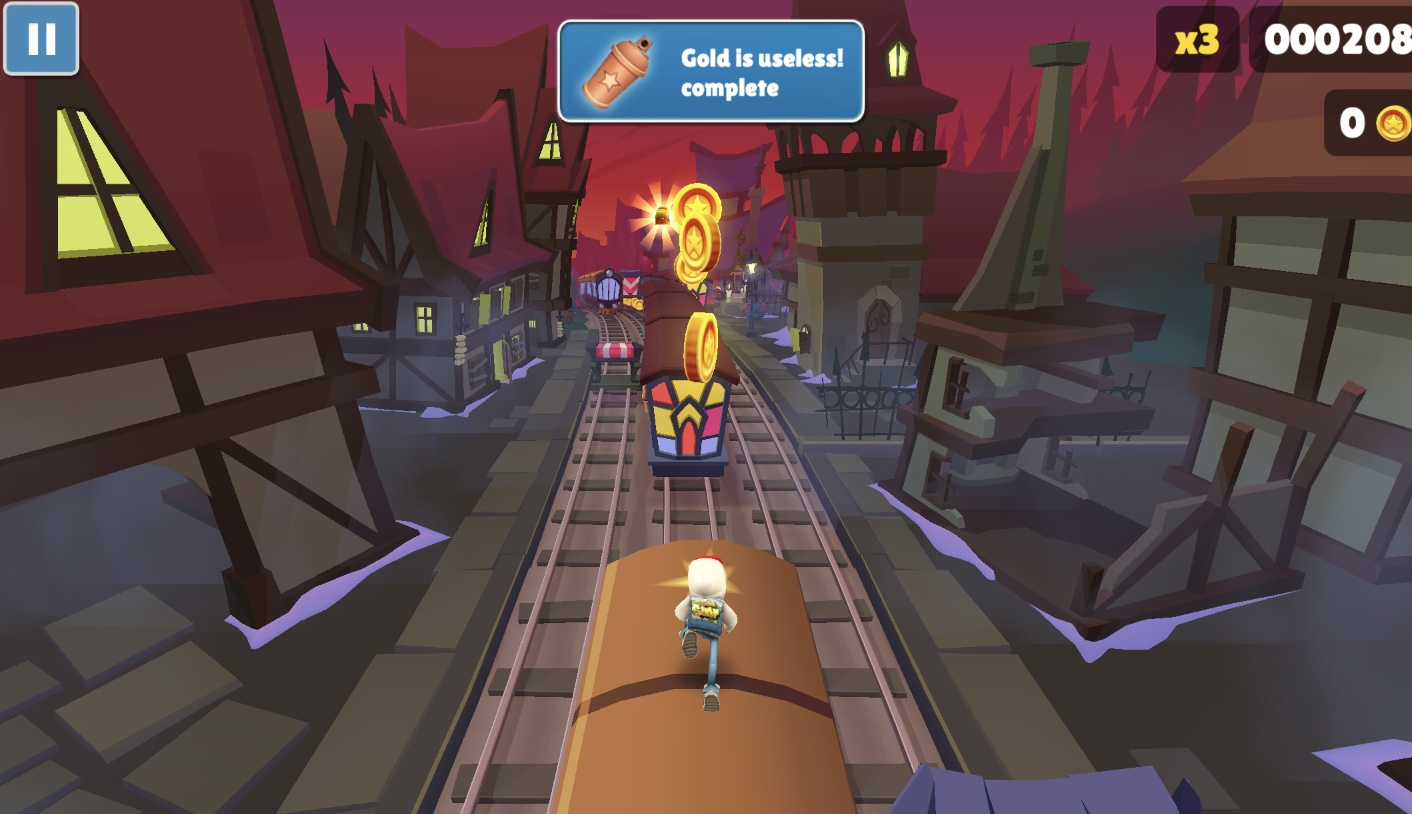ground_barrier: (586, 342, 641, 390)
overhead_barrier: (916, 766, 1210, 814)
train: (548, 557, 858, 814), (638, 278, 741, 482), (575, 270, 621, 316)
